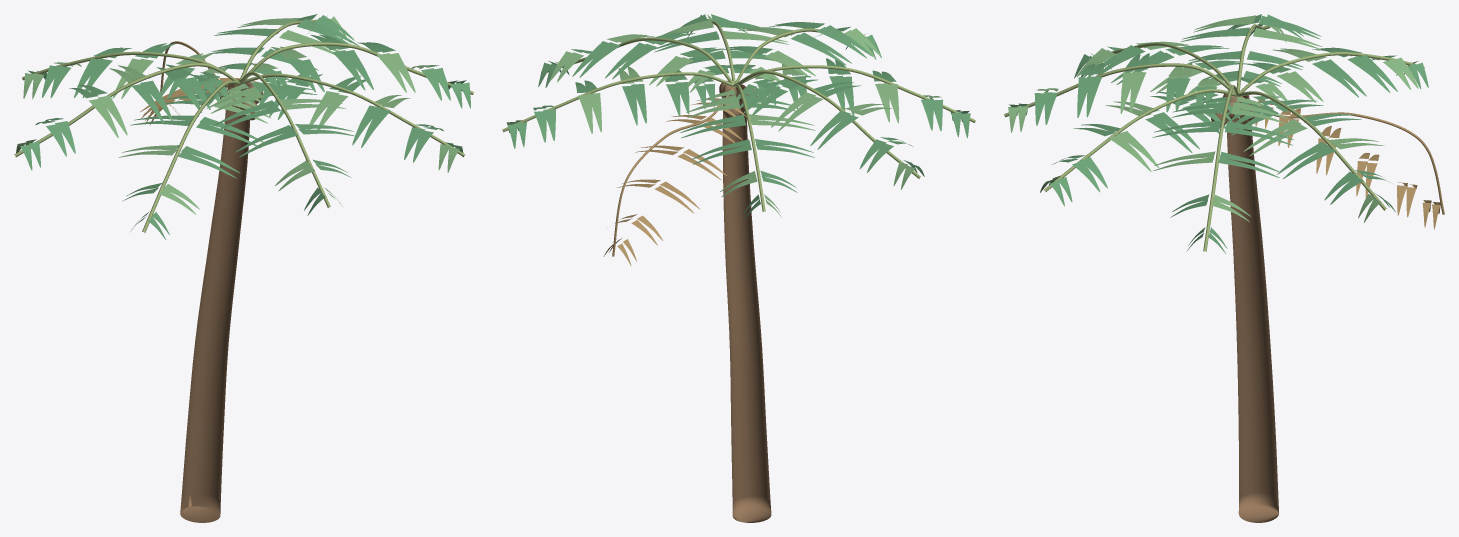
Rendered from realistic-beach-palm.glb.
The picture shows the model from 3 angles, left to right: view 1: azimuth 30°, elevation 25°; view 2: azimuth 150°, elevation 25°; view 3: azimuth 270°, elevation 25°; orthographic projection. The views are drawn at different scales.
Visible parts, largest first — view 1: Curved Tapered Trunk, Frond 5 Rachis, Frond 2 Rachis, Frond 4 Rachis, Frond 1 Rachis, Frond 6 Rachis, Frond 3 Rachis; view 2: Curved Tapered Trunk, Frond 8 Rachis, Frond 4 Rachis, Frond 5 Rachis, Frond 7 Rachis, Frond 1 Rachis; view 3: Curved Tapered Trunk, Frond 2 Rachis, Frond 3 Rachis, Frond 1 Rachis, Frond 8 Rachis, Frond 6 Rachis, Frond 7 Rachis.
Boxes of the visible parts, x1=… form: Curved Tapered Trunk: x1=180, y1=79, x2=250, y2=522; Frond 5 Rachis: x1=14, y1=63, x2=238, y2=157; Frond 2 Rachis: x1=240, y1=73, x2=465, y2=156; Frond 4 Rachis: x1=142, y1=80, x2=240, y2=232; Frond 1 Rachis: x1=240, y1=42, x2=473, y2=94; Frond 6 Rachis: x1=22, y1=51, x2=221, y2=80; Frond 3 Rachis: x1=239, y1=72, x2=330, y2=207; Curved Tapered Trunk: x1=722, y1=84, x2=771, y2=522; Frond 8 Rachis: x1=502, y1=72, x2=733, y2=132; Frond 4 Rachis: x1=740, y1=65, x2=975, y2=122; Frond 5 Rachis: x1=735, y1=70, x2=920, y2=179; Frond 7 Rachis: x1=612, y1=87, x2=734, y2=256; Frond 1 Rachis: x1=541, y1=37, x2=734, y2=84; Curved Tapered Trunk: x1=1226, y1=95, x2=1278, y2=522; Frond 2 Rachis: x1=1044, y1=89, x2=1237, y2=191; Frond 3 Rachis: x1=1004, y1=63, x2=1234, y2=117; Frond 1 Rachis: x1=1203, y1=85, x2=1238, y2=251; Frond 8 Rachis: x1=1238, y1=91, x2=1386, y2=210; Frond 6 Rachis: x1=1238, y1=52, x2=1424, y2=93; Frond 7 Rachis: x1=1239, y1=96, x2=1444, y2=214.
Bounding box in the file's own units: 8.31 × 8.58 × 7.42.
